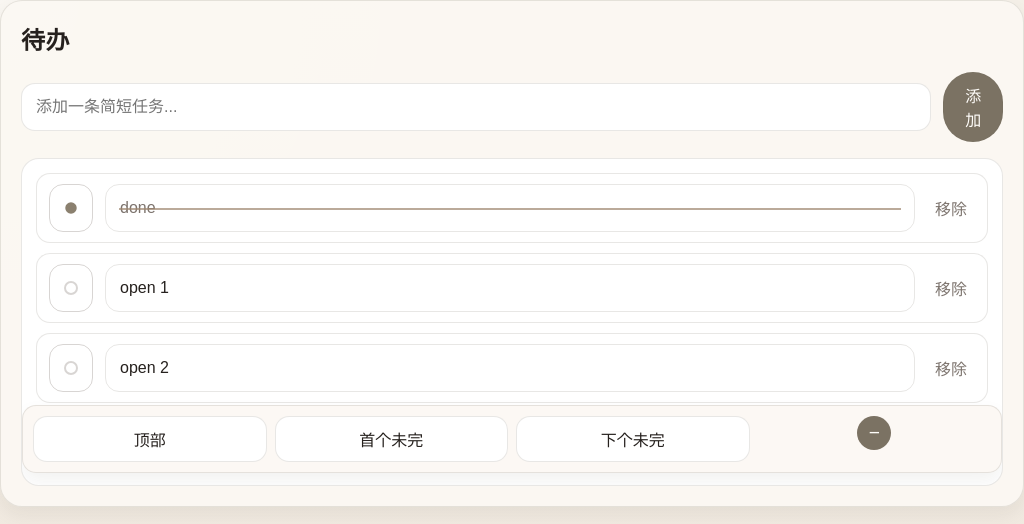
Test: WhyTodoPanel dock actions › restores minimized quick actions from the mobile toggle button
The image size is (1024, 524).
Click the button named "收起快捷操作": x=874, y=433 left=857, top=416, right=891, bottom=450
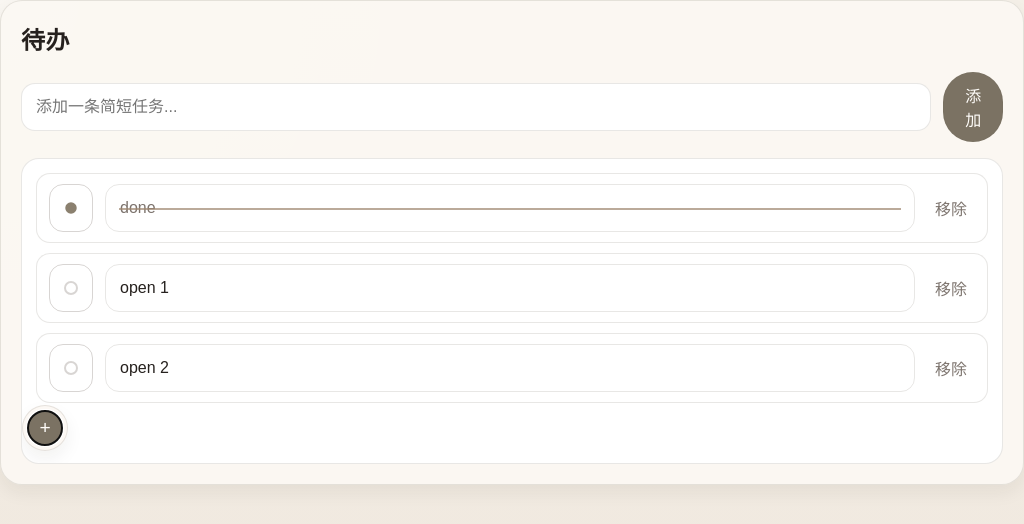
Now the button "顶部" is gone
Click the button named "展开快捷操作": x=45, y=428 left=28, top=411, right=62, bottom=445
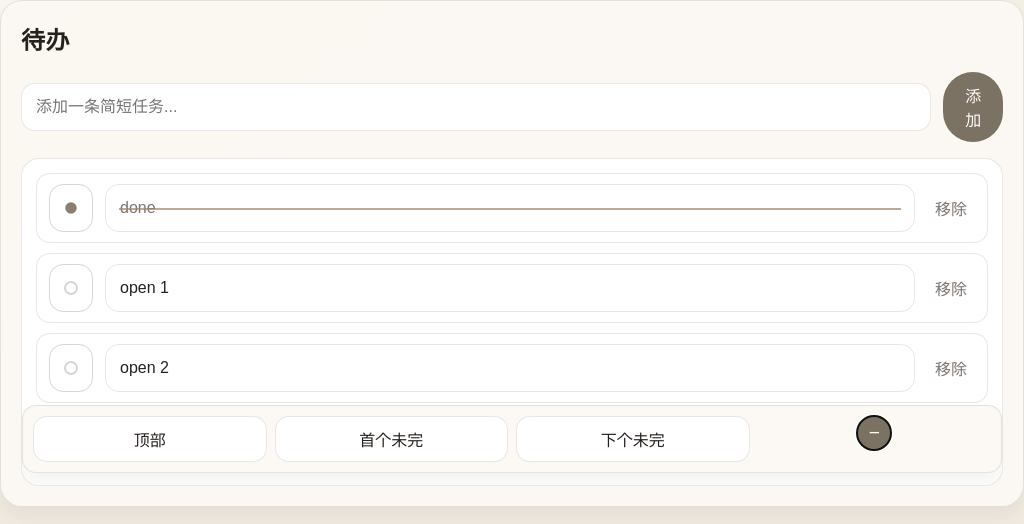
Now the button "顶部" is shown, box left=33, top=416, right=266, bottom=462
Now the button named "收起快捷操作" is shown, box left=857, top=416, right=891, bottom=450
